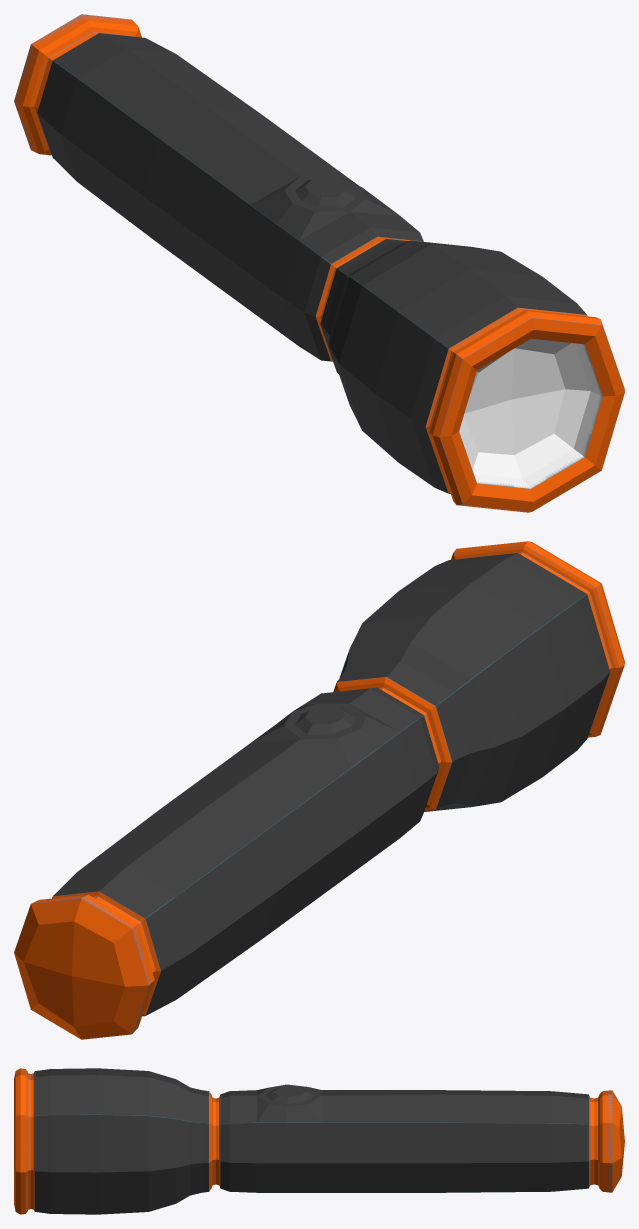
Rendered from LOW POLY FLASHLIGHT.fbx.
3 renders of one model, top to bottom at view 1: azimuth 30°, elevation 25°; view 2: azimuth 150°, elevation 25°; view 3: azimuth 270°, elevation 25°, orthographic. The views are drawn at different scales.
Visible parts, largest first — view 1: Simmetria_1; view 2: Simmetria_1; view 3: Simmetria_1.
Boxes of the visible parts, bbox=[...] form: Simmetria_1: bbox=[14, 14, 624, 512]; Simmetria_1: bbox=[14, 541, 624, 1039]; Simmetria_1: bbox=[14, 1068, 624, 1214].
Size of the model in its own units: 200 by 200 by 832.
1 material, 1 textured.
